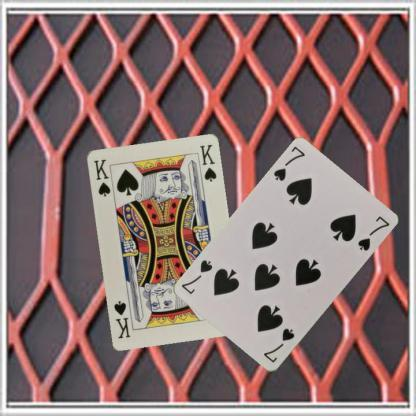7s: (271, 144, 306, 184), (260, 326, 296, 364)
Ks: (90, 156, 112, 198)
